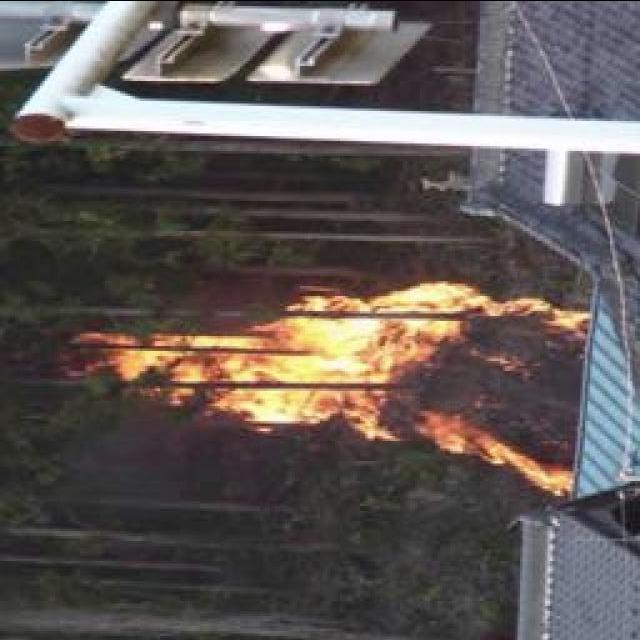Fire: (59, 286, 583, 484)
